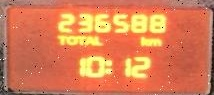0: (85, 54, 104, 77)
1: (122, 56, 131, 77), (76, 55, 84, 77)
2: (132, 55, 151, 77), (56, 10, 74, 32)
3: (77, 11, 93, 32)
5: (113, 13, 129, 33)
6: (94, 11, 111, 32)
8: (130, 13, 147, 33), (148, 13, 165, 32)
X: (104, 57, 113, 75), (147, 37, 162, 47), (55, 34, 66, 45), (75, 34, 85, 45), (139, 35, 148, 46), (66, 34, 75, 45), (93, 35, 102, 45), (85, 34, 92, 45)
